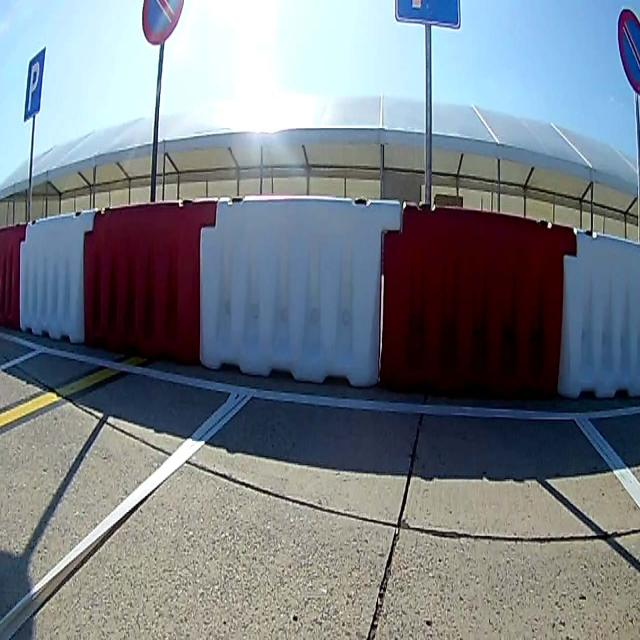park: (25, 48, 44, 118)
